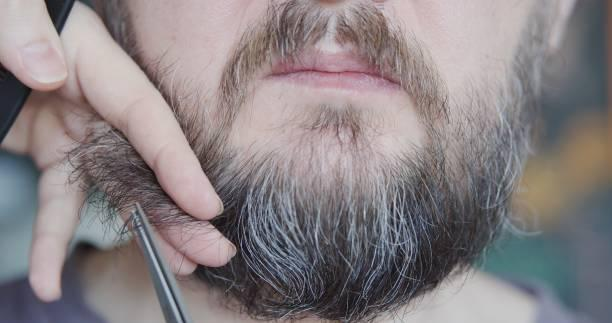dry hair: (96, 141, 113, 175)
grey hair: (243, 187, 286, 282), (374, 190, 396, 289), (289, 195, 308, 247), (314, 204, 324, 264), (124, 163, 144, 190), (295, 253, 310, 284)
